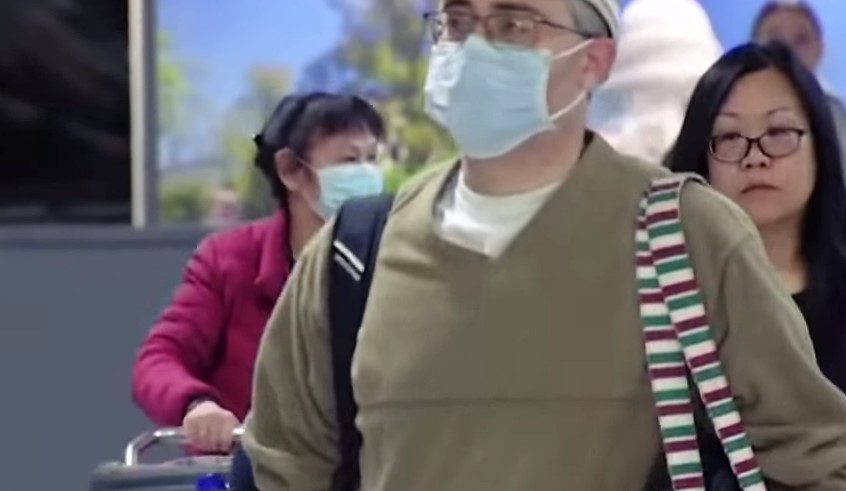face_with_mask: (416, 5, 619, 161), (265, 98, 391, 232)
